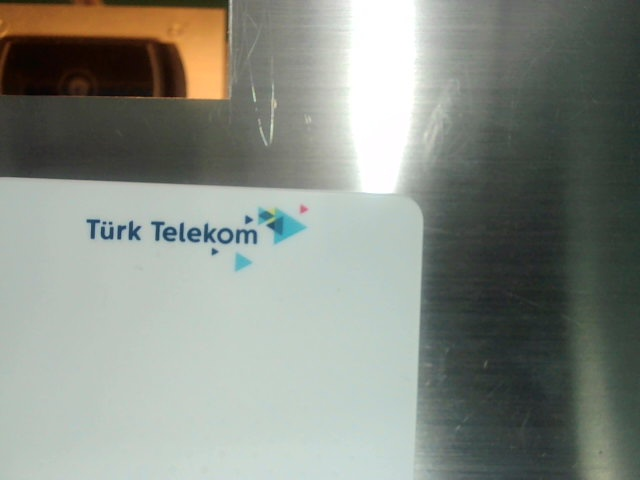AQ_TURKTelekom: (82, 195, 325, 270)
